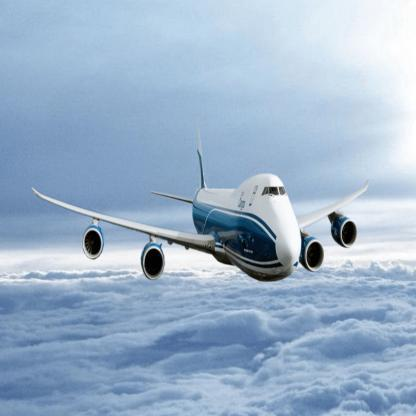CIV_Plane: (31, 119, 370, 288)
